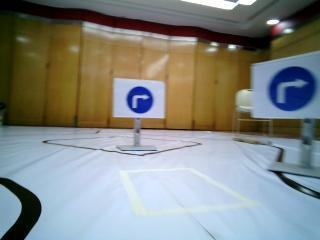right: (251, 64, 320, 117), (113, 79, 165, 117)
